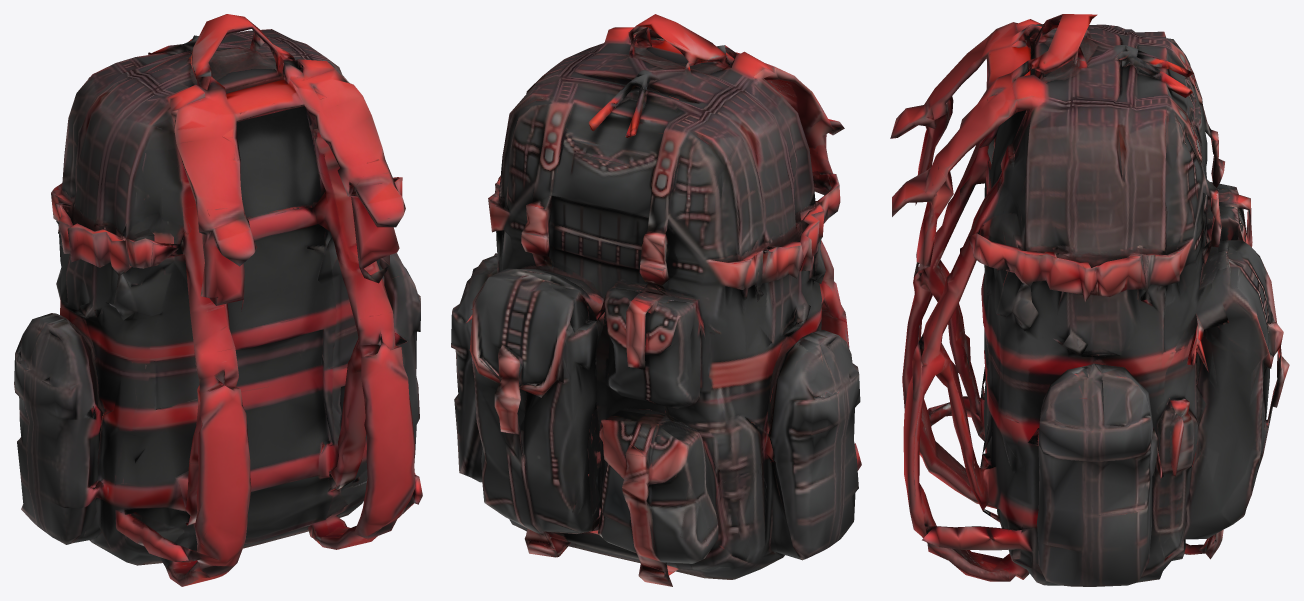
Rendered from guofengbeib1.fbx.
The picture shows the model from 3 angles, left to right: view 1: azimuth 30°, elevation 25°; view 2: azimuth 150°, elevation 25°; view 3: azimuth 270°, elevation 25°; orthographic projection. The views are drawn at different scales.
Parts seen in each view (by area): view 1: Mesh_0.001; view 2: Mesh_0.001; view 3: Mesh_0.001.
Boxes of the visible parts, box(x1,y1,x2,y2) form: Mesh_0.001: box(14, 14, 422, 586); Mesh_0.001: box(451, 14, 861, 586); Mesh_0.001: box(890, 14, 1289, 586).
Bounding box in the file's own units: 0.7478 × 0.9753 × 0.6682.
